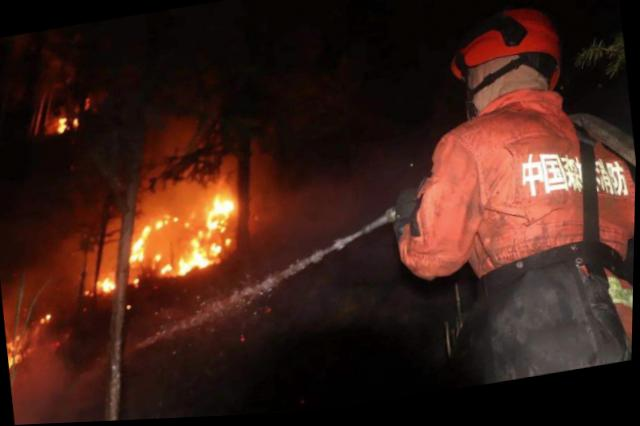fire: (88, 188, 244, 294), (5, 311, 66, 363), (53, 108, 80, 134)
